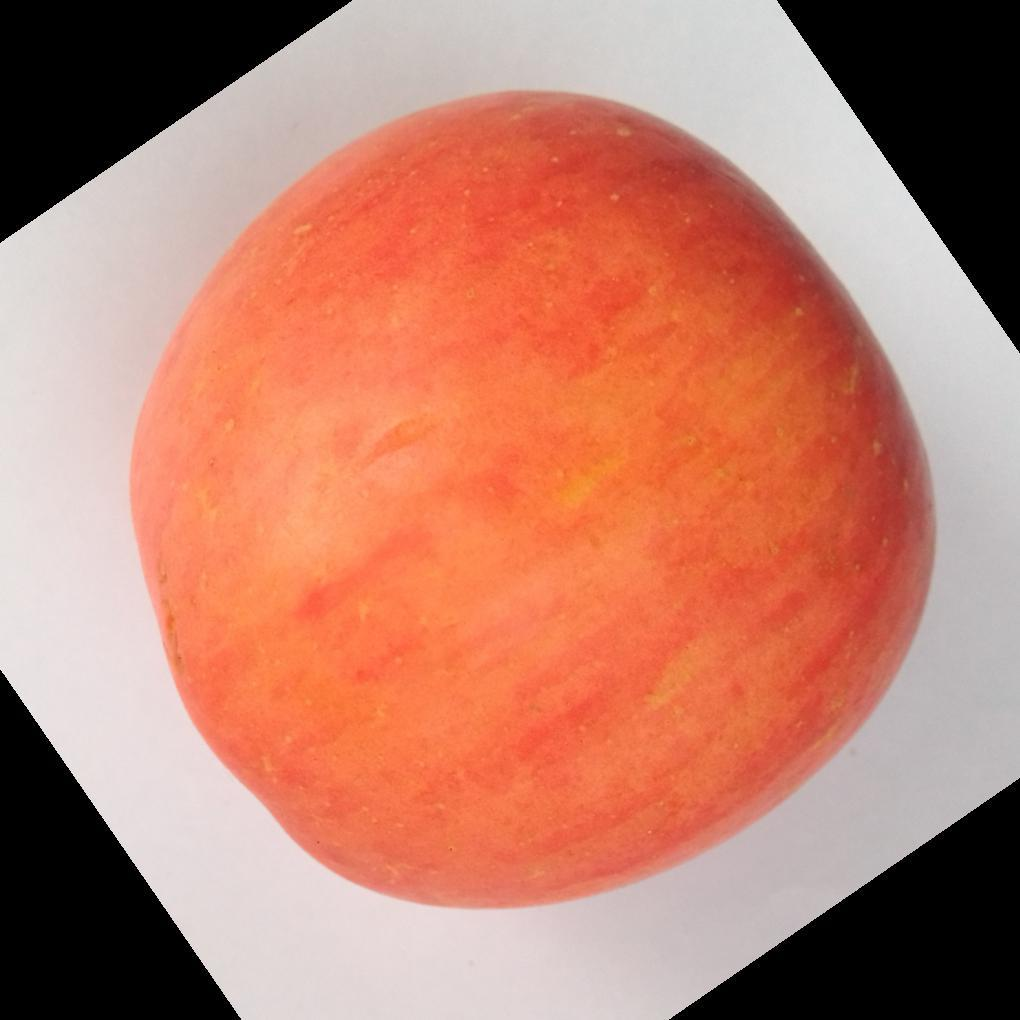FreshGuava: (124, 91, 937, 917)
